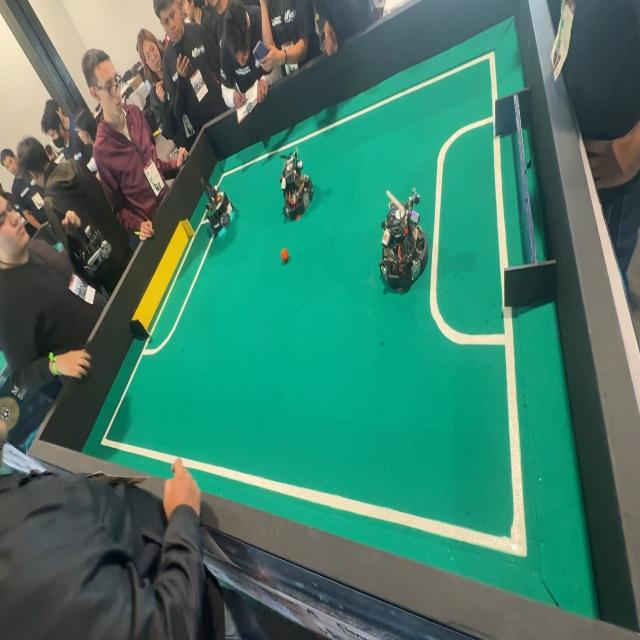Robot: (379, 175, 436, 303), (195, 167, 238, 242), (274, 144, 313, 218)
pelota: (280, 246, 289, 266)
